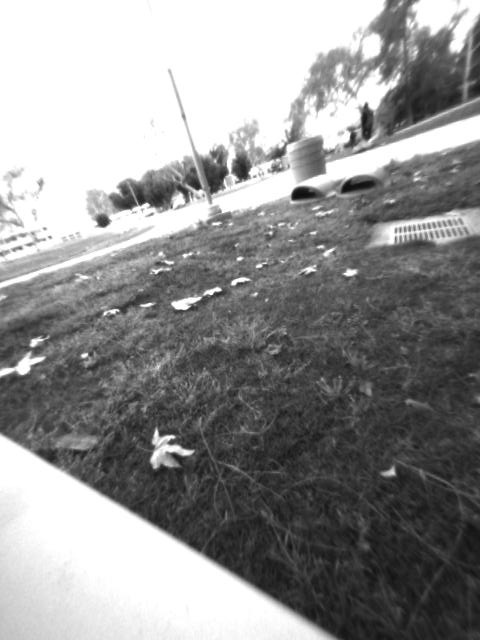trashcan: (285, 133, 327, 183)
